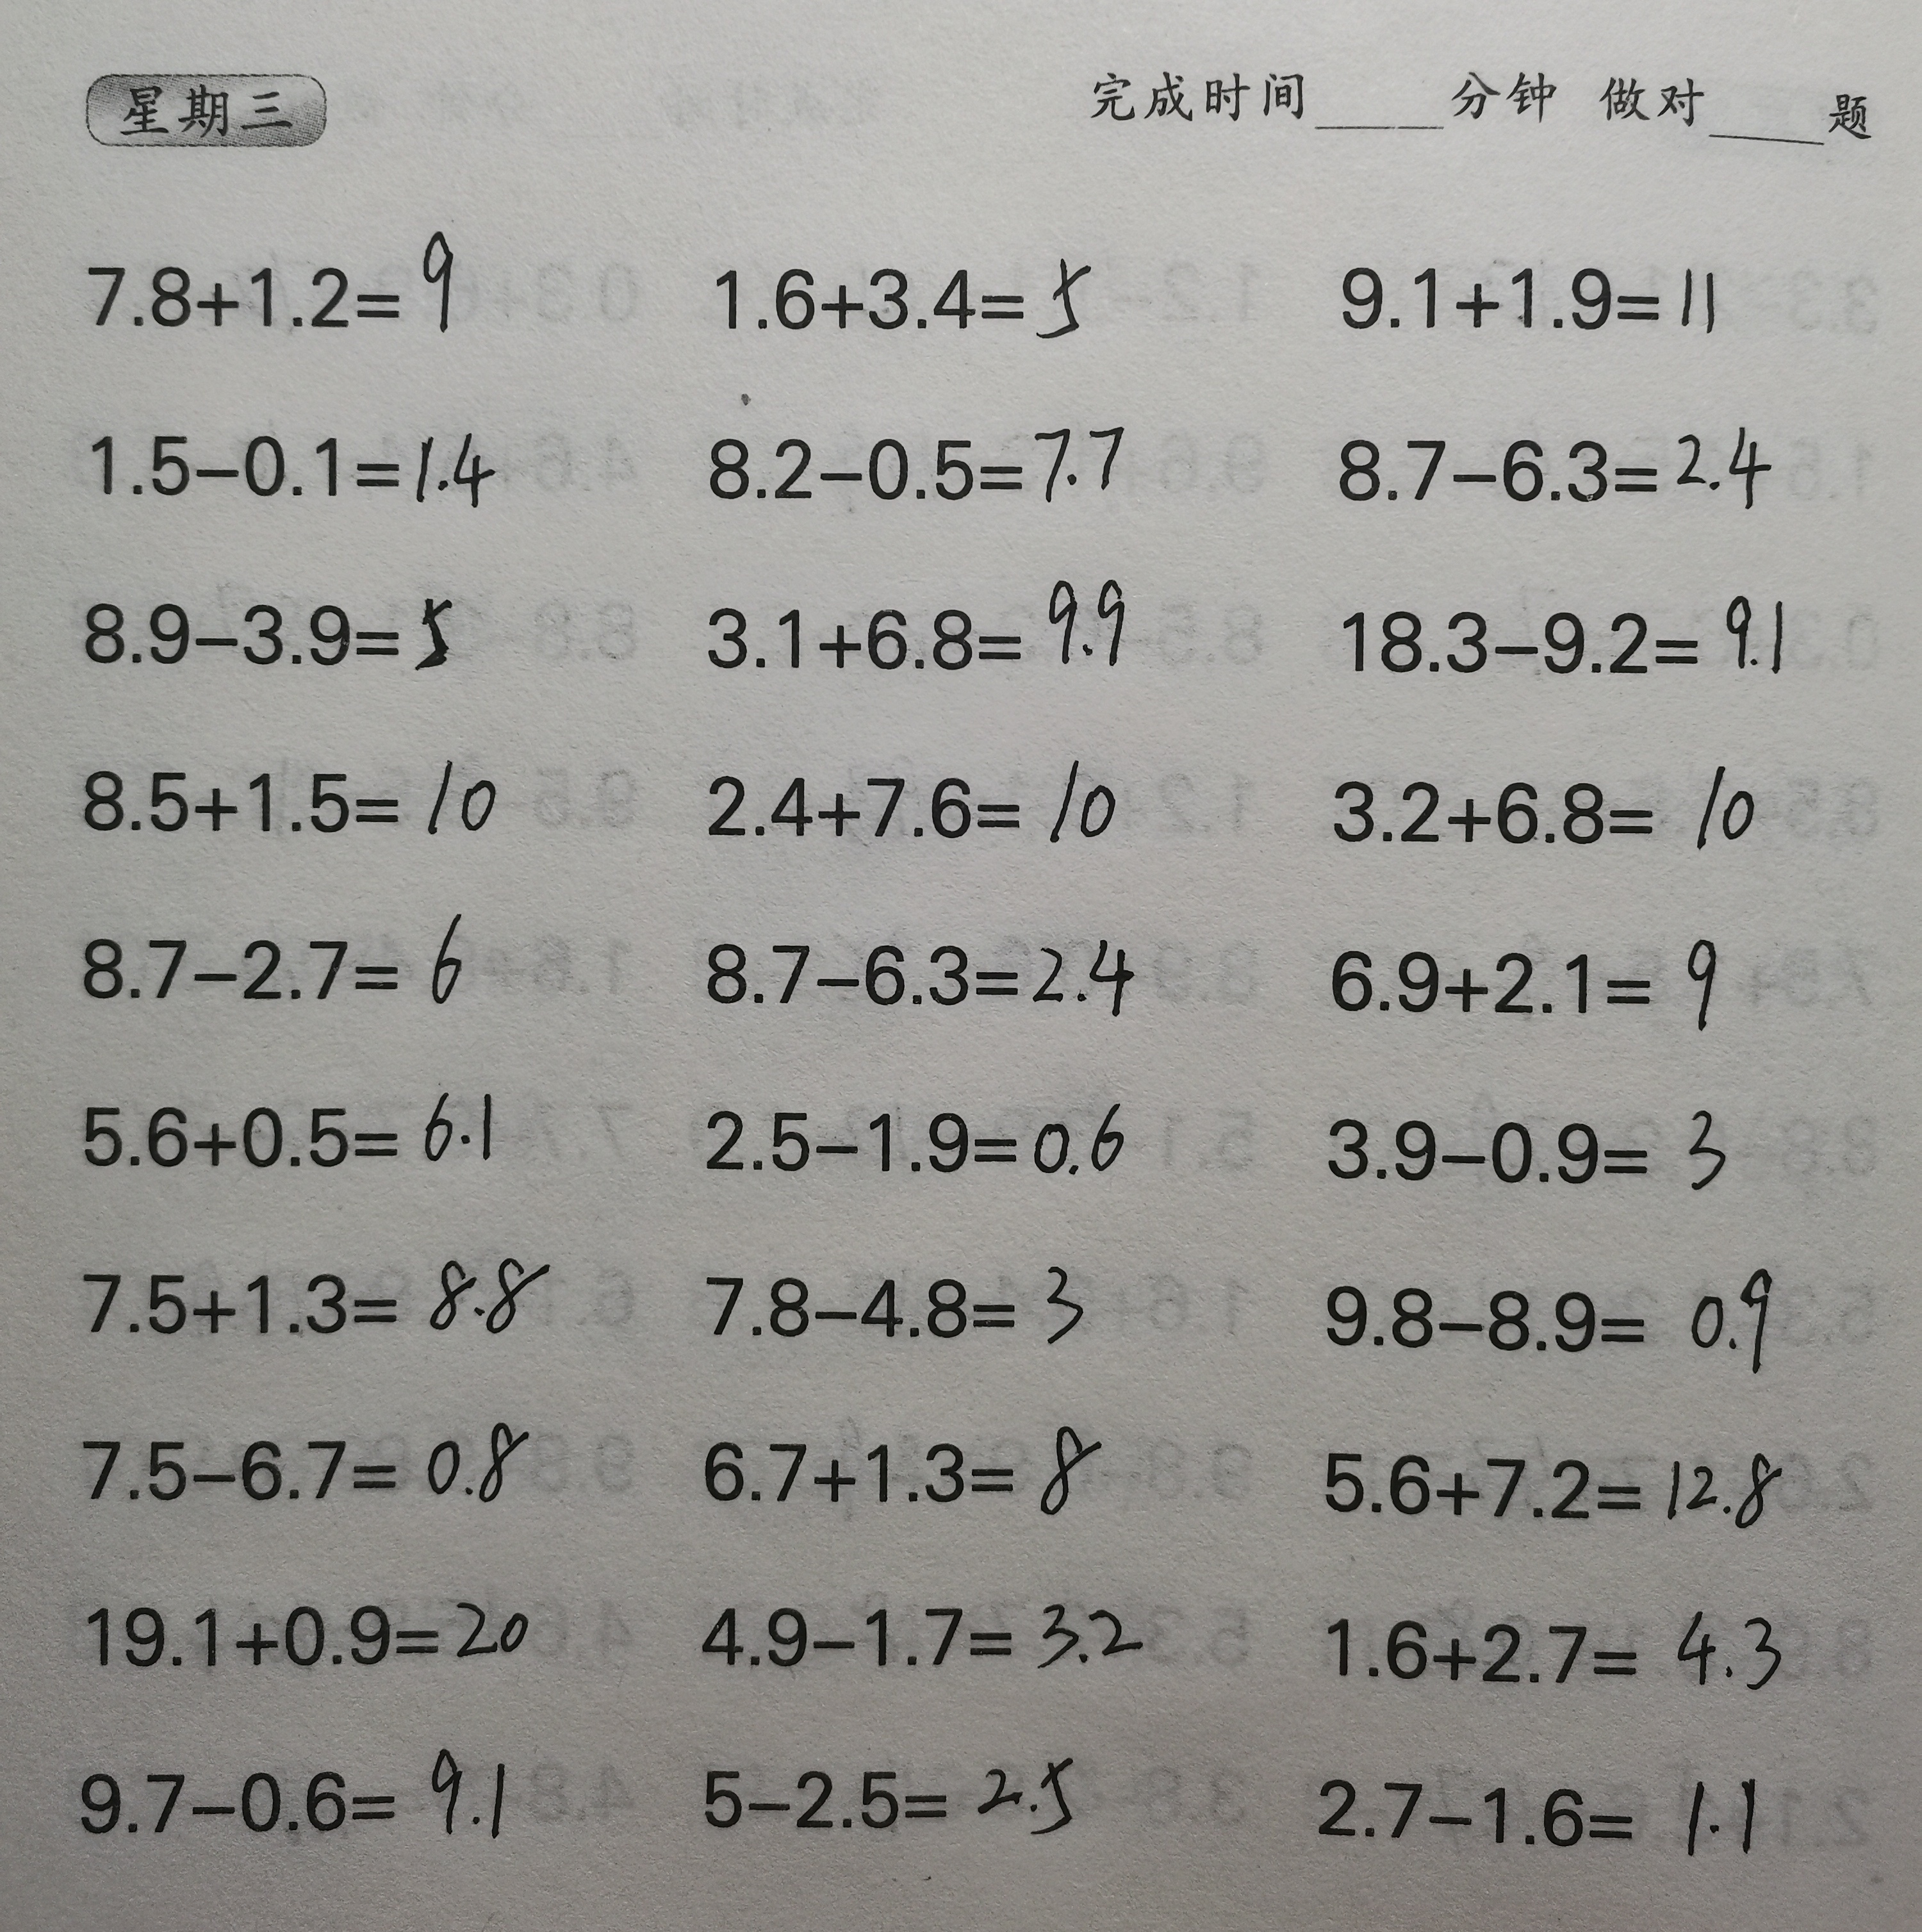equation: (1302, 1745, 1790, 1876), (1290, 1252, 1783, 1381), (1297, 1585, 1816, 1707), (1299, 1416, 1790, 1536), (55, 1740, 544, 1860), (70, 1235, 558, 1354), (685, 1569, 1156, 1691), (1304, 911, 1737, 1043), (1322, 576, 1818, 689), (693, 911, 1146, 1032), (688, 738, 1126, 858), (697, 218, 1111, 345), (1304, 1087, 1748, 1203), (56, 211, 481, 333), (70, 1404, 532, 1515), (695, 565, 1156, 676), (693, 1402, 1105, 1525), (70, 402, 510, 516), (681, 1080, 1148, 1187), (77, 1571, 539, 1678), (67, 557, 468, 680), (65, 741, 503, 852), (65, 1073, 503, 1184), (1309, 752, 1772, 856), (688, 1731, 1089, 1849), (48, 907, 493, 1013), (692, 1249, 1105, 1358), (1315, 414, 1785, 509), (1322, 236, 1728, 345), (699, 416, 1142, 511)
